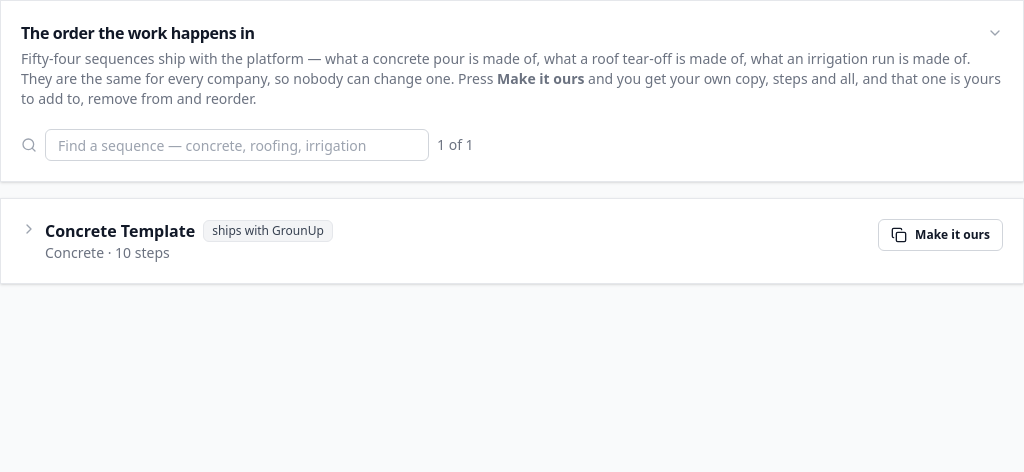
it: whose sequence it is › offers no step controls on a shipped one
Click the button "Concrete Template ships with GrounUp Concrete · 10 steps" at point(120, 231), box [21,219,866,263]
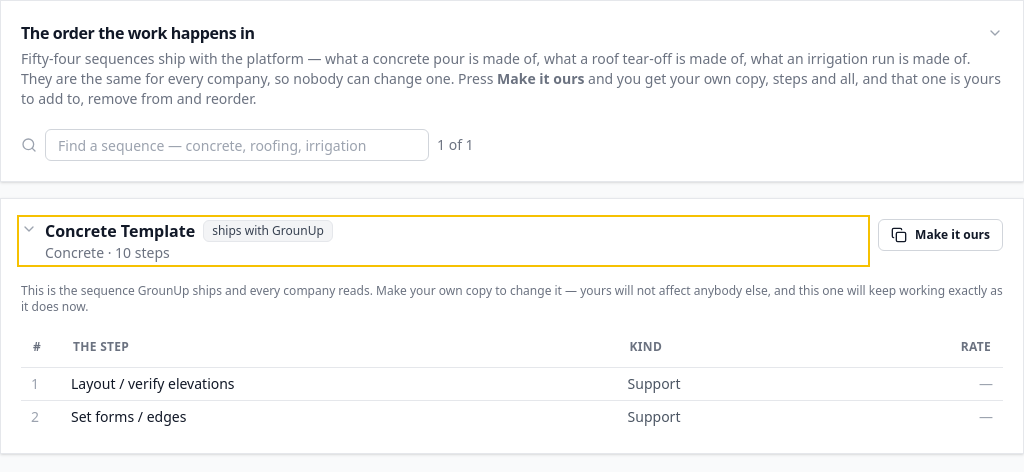
Expected: the text "Layout / verify elevations" is shown, [61,367,618,400]
